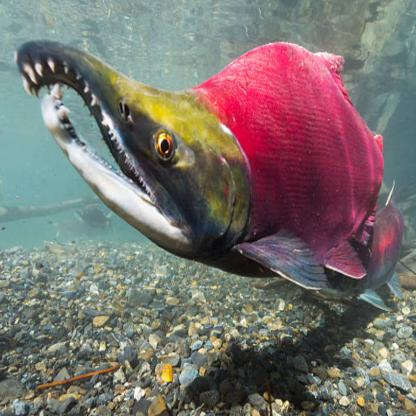sockeye: (14, 27, 401, 299)
